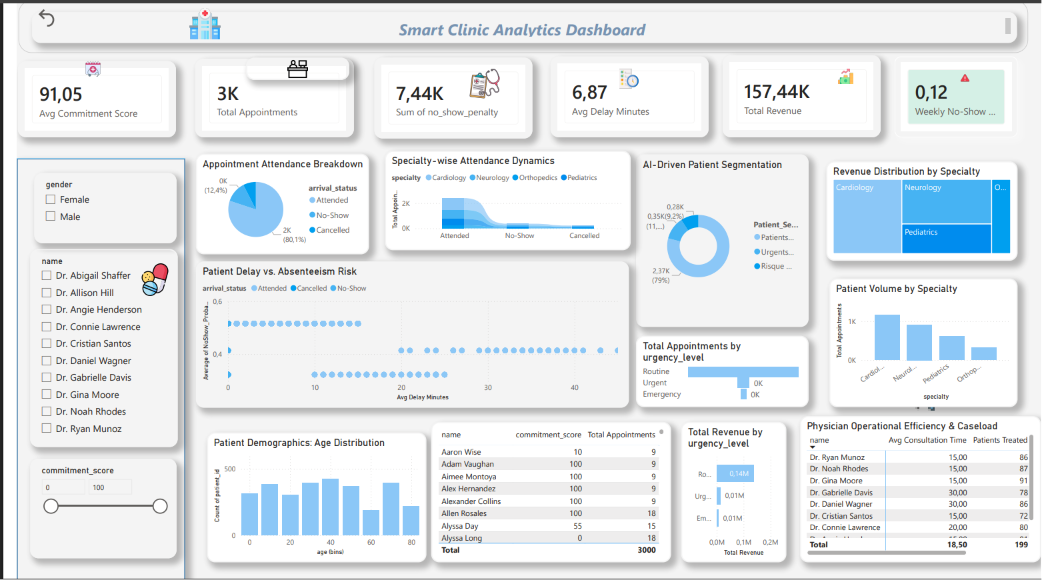

What the dashboard file says about the page in this screenshot:
{"tool":"powerbi","page":{"name":"Page 1","canvas":[1750,1000],"ordinal":0},"visuals":[{"type":"shape","box":[2.5,0,1725,90],"z":0,"group":"g1"},{"type":"textbox","box":[25.5,20,1683.2,52.5],"z":0,"group":"g2"},{"type":"cardVisual","fields":{"Data":["public appointments.Total Appointments"]},"box":[305.2,100,270.5,134],"z":0},{"type":"group","id":"g1","title":"Group 2","box":[2.5,0,1725,90],"z":1000},{"type":"group","id":"g2","title":"Group 1","box":[25.5,10,1683.2,62],"z":1000,"group":"g1"},{"type":"image","box":[189.6,14,263.5,52],"z":1000,"group":"g2"},{"type":"actionButton","box":[30.7,10,130.7,40],"z":2000,"group":"g2"},{"type":"shape","box":[0,270,287.5,730],"z":2000},{"type":"slicer","fields":{"Values":["public patients.gender"]},"box":[30,295,242.5,120],"z":3000},{"type":"slicer","fields":{"Values":["public doctors.name"]},"box":[22.5,425,252.5,337.5],"z":4000},{"type":"image","box":[1450,642,200,58],"z":5000},{"type":"cardVisual","fields":{"Data":["Sum(public billing.no_show_penalty)"]},"box":[610.5,98,270.5,138],"z":6000},{"type":"cardVisual","fields":{"Data":["public billing.Avg Commitment Score"]},"box":[2,104,270.5,130],"z":7000},{"type":"cardVisual","fields":{"Data":["public appointments.Total Revenue"]},"box":[1206,94,270.5,140],"z":8000},{"type":"cardVisual","fields":{"Data":["public appointments.Avg Delay Minutes"]},"box":[911.5,96,270.5,138],"z":9000},{"type":"image","box":[1382.5,117.5,67.5,25],"z":10000},{"type":"image","box":[938,118,216,32],"z":11000},{"type":"ribbonChart","title":"Specialty-wise Attendance Dynamics","fields":{"Category":["public appointments.arrival_status"],"Y":["public appointments.Total Appointments"],"Series":["public doctors.specialty"]},"box":[629.2,256.9,420,170],"z":11000,"group":"g3"},{"type":"image","box":[392,98,176,38],"z":12000},{"type":"cardVisual","fields":{"Data":["public appointments.Weekly No-Show Rate"]},"box":[1500,96,210,138],"z":13000},{"type":"pieChart","title":"Appointment Attendance Breakdown","fields":{"Category":["public appointments.arrival_status"],"Y":["public appointments.Total Appointments"]},"box":[306,262,296,172],"z":14000},{"type":"columnChart","title":"Patient Demographics: Age Distribution","fields":{"Category":["public patients.age (bins)"],"Y":["CountNonNull(public appointments.patient_id)"]},"box":[325,737.5,375,222.5],"z":15000},{"type":"image","box":[908.5,506.2,54.6,26.9],"z":16000},{"type":"donutChart","title":"AI-Driven Patient Segmentation","fields":{"Category":["public appointments.Patient_Segment_AI"],"Y":["CountNonNull(public appointments.appointment_id)"]},"box":[1057.5,262.5,295,295],"z":17000},{"type":"group","id":"g3","title":"Group 3","box":[629.2,256.9,420,170],"z":18000},{"type":"tableEx","fields":{"Values":["public patients.name","public patients.commitment_score","public appointments.Total Appointments"]},"box":[707.5,720,410,240],"z":19000},{"type":"slicer","fields":{"Values":["public patients.commitment_score"]},"box":[22.5,782.5,250,170],"z":20000},{"type":"treemap","title":"Revenue Distribution by Specialty","fields":{"Group":["public doctors.specialty"],"Values":["public appointments.Total Revenue"]},"box":[1382.5,275,327.5,170],"z":21000},{"type":"scatterChart","title":"Patient Delay vs. Absenteeism Risk","fields":{"X":["public appointments.Avg Delay Minutes"],"Y":["Avg(public appointments.NoShow_Probability)"],"Category":["public appointments.appointment_id"],"Series":["public appointments.arrival_status"]},"box":[306,446,740,250],"z":22000},{"type":"columnChart","title":"Patient Volume by Specialty","fields":{"Category":["public doctors.specialty"],"Y":["public appointments.Total Appointments"]},"box":[1387.5,475,322.5,220],"z":23000},{"type":"funnel","fields":{"Category":["public appointments.urgency_level"],"Y":["public appointments.Total Appointments"]},"box":[1057.5,572.5,295,122.5],"z":24000},{"type":"barChart","fields":{"Category":["public appointments.urgency_level"],"Y":["public appointments.Total Revenue"]},"box":[1135,720,180,240],"z":25000},{"type":"pivotTable","title":"Physician Operational Efficiency & Caseload","fields":{"Rows":["public doctors.name"],"Values":["public doctors.Avg Consultation Time","public appointments.Patients Treated","public appointments.Total Revenue"]},"box":[1337.5,710,412.5,250],"z":26000},{"type":"image","box":[730,115,137.5,55],"z":27000},{"type":"image","box":[45,105,170,25],"z":28000},{"type":"image","box":[1490,122.5,260,20],"z":29000},{"type":"image","box":[147.5,450,177.5,55],"z":30000}]}

Visuals, with their boxes in screenshot pixels (x1, y1, x2, y2), scaled from the page's 1750x1000 canvas onto the 1042x580 screenshot:
shape: BBox(1, 0, 1029, 52)
textbox: BBox(15, 12, 1017, 42)
cardVisual - public appointments.Total Appointments: BBox(182, 58, 343, 136)
"Group 2" group: BBox(1, 0, 1029, 52)
"Group 1" group: BBox(15, 6, 1017, 42)
image: BBox(113, 8, 270, 38)
actionButton: BBox(18, 6, 96, 29)
shape: BBox(0, 157, 171, 579)
slicer - public patients.gender: BBox(18, 171, 162, 241)
slicer - public doctors.name: BBox(13, 246, 164, 442)
image: BBox(863, 372, 982, 406)
cardVisual - Sum(public billing.no_show_penalty): BBox(364, 57, 525, 137)
cardVisual - public billing.Avg Commitment Score: BBox(1, 60, 162, 136)
cardVisual - public appointments.Total Revenue: BBox(718, 55, 879, 136)
cardVisual - public appointments.Avg Delay Minutes: BBox(543, 56, 704, 136)
image: BBox(823, 68, 863, 83)
image: BBox(559, 68, 687, 87)
"Specialty-wise Attendance Dynamics" ribbonChart: BBox(375, 149, 625, 248)
image: BBox(233, 57, 338, 79)
cardVisual - public appointments.Weekly No-Show Rate: BBox(893, 56, 1018, 136)
"Appointment Attendance Breakdown" pieChart: BBox(182, 152, 358, 252)
"Patient Demographics: Age Distribution" columnChart: BBox(194, 428, 417, 557)
image: BBox(541, 294, 573, 309)
"AI-Driven Patient Segmentation" donutChart: BBox(630, 152, 805, 323)
"Group 3" group: BBox(375, 149, 625, 248)
tableEx - public patients.name x public patients.commitment_score: BBox(421, 418, 665, 557)
slicer - public patients.commitment_score: BBox(13, 454, 162, 552)
"Revenue Distribution by Specialty" treemap: BBox(823, 160, 1018, 258)
"Patient Delay vs. Absenteeism Risk" scatterChart: BBox(182, 259, 623, 404)
"Patient Volume by Specialty" columnChart: BBox(826, 276, 1018, 403)
funnel - public appointments.urgency_level x public appointments.Total Appointments: BBox(630, 332, 805, 403)
barChart - public appointments.urgency_level x public appointments.Total Revenue: BBox(676, 418, 783, 557)
"Physician Operational Efficiency & Caseload" pivotTable: BBox(796, 412, 1041, 557)
image: BBox(435, 67, 517, 99)
image: BBox(27, 61, 128, 75)
image: BBox(887, 71, 1041, 83)
image: BBox(88, 261, 194, 293)
